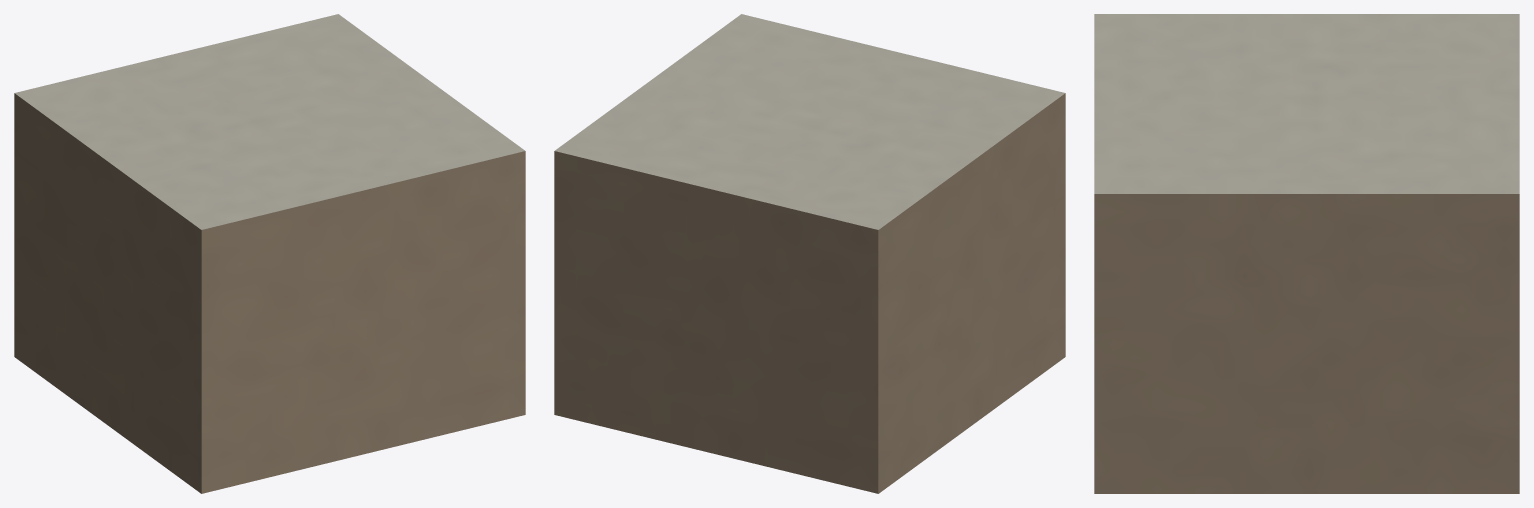
The model's file is set_roof_outside_a08.fbx.
3 renders of one model, left to right at view 1: azimuth 30°, elevation 25°; view 2: azimuth 150°, elevation 25°; view 3: azimuth 270°, elevation 25°, orthographic. The views are drawn at different scales.
Parts seen in each view (by area): view 1: set_roof_outside_a08; view 2: set_roof_outside_a08; view 3: set_roof_outside_a08.
Part boxes in pixels (<box>): set_roof_outside_a08: <box>14,14,525,493</box>; set_roof_outside_a08: <box>554,14,1065,493</box>; set_roof_outside_a08: <box>1094,14,1519,493</box>.
Size of the model in its own units: 50 by 38.91 by 50.
